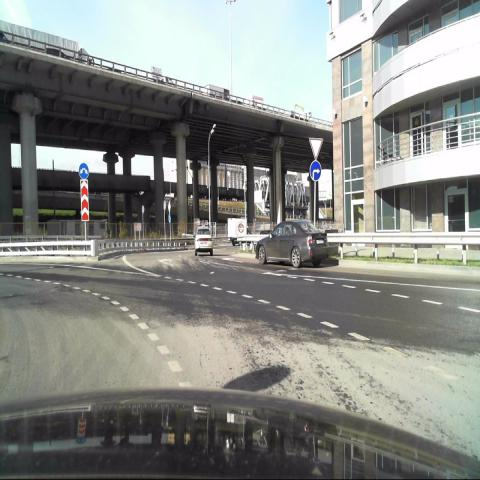4_1_2: (309, 160, 322, 181)
